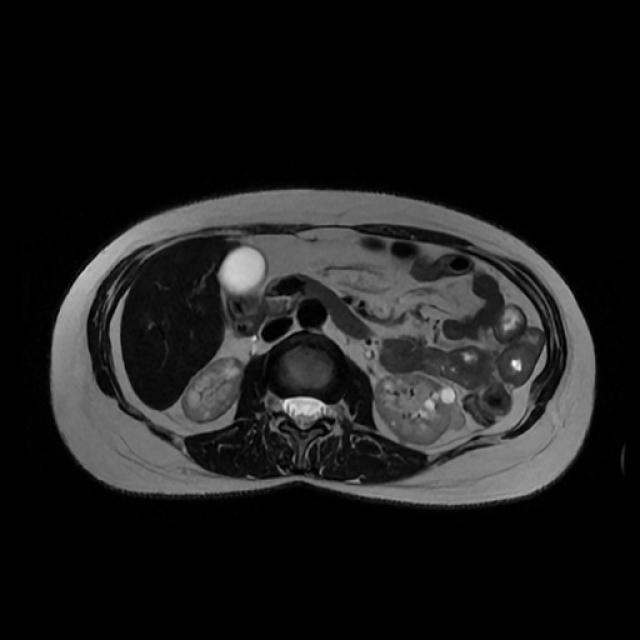sag: (180, 354, 245, 421)
sol: (377, 371, 469, 443)
